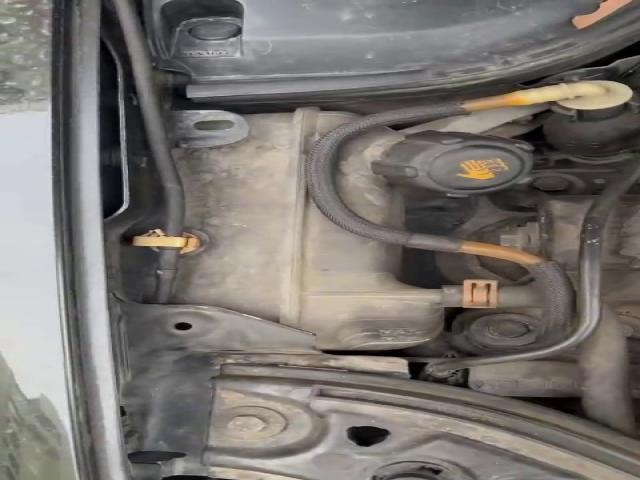antifreeze_tank: (177, 108, 444, 349), (336, 128, 532, 228)
